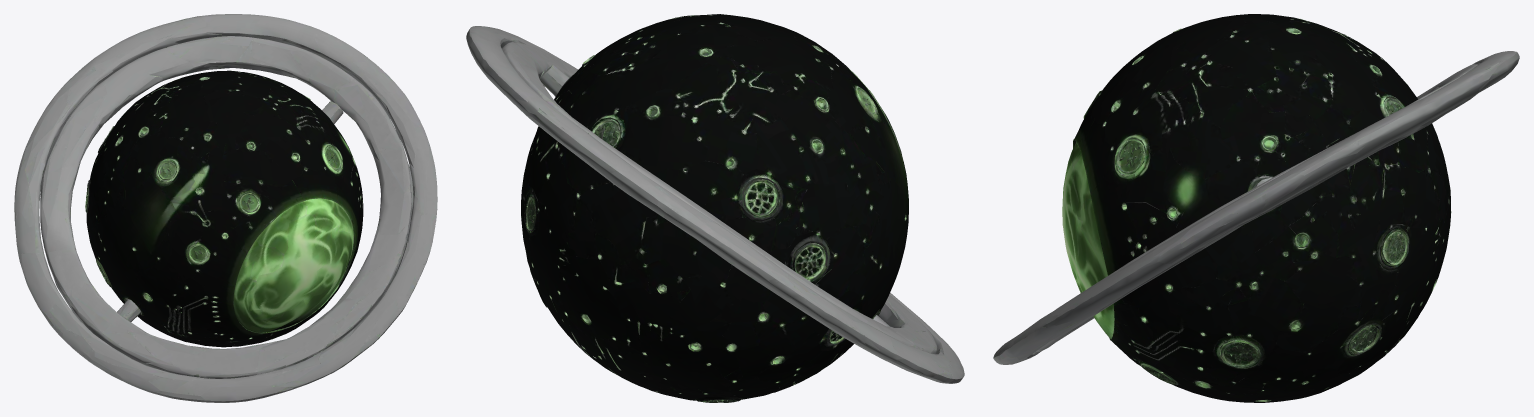
The model's file is orb.glb.
3 views of the same model, side by side, from view 1: azimuth 30°, elevation 25°; view 2: azimuth 150°, elevation 25°; view 3: azimuth 270°, elevation 25° (orthographic). The views are drawn at different scales.
Visible parts, largest first — view 1: mesh_node; view 2: mesh_node; view 3: mesh_node.
Boxes of the visible parts, x1,y1,x2,y2 form: mesh_node: (14, 14, 437, 402); mesh_node: (466, 14, 964, 402); mesh_node: (993, 14, 1519, 402).
Bounding box in the file's own units: 1.9 × 1.32 × 1.79.
1 material, 1 textured.
